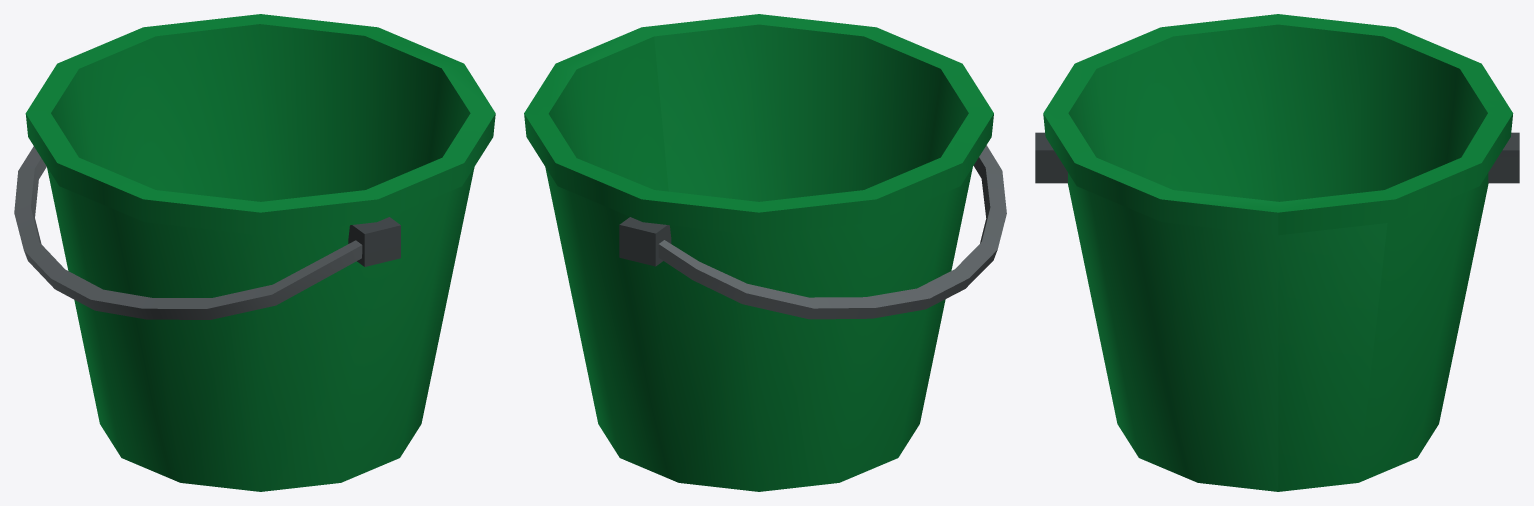
Rendered from SM_Toy_04.fbx.
3 views of the same model, side by side, from view 1: azimuth 30°, elevation 25°; view 2: azimuth 150°, elevation 25°; view 3: azimuth 270°, elevation 25° (orthographic).
Parts seen in each view (by area): view 1: SM_Toy_04; view 2: SM_Toy_04; view 3: SM_Toy_04.
Boxes of the visible parts, left/top/right/bottom form: SM_Toy_04: left=14, top=14, right=495, bottom=491; SM_Toy_04: left=524, top=14, right=1006, bottom=491; SM_Toy_04: left=1035, top=14, right=1519, bottom=491.
Bounding box in the file's own units: 23.93 × 17.18 × 24.26.
Materials: 1 (1 with a texture image).
